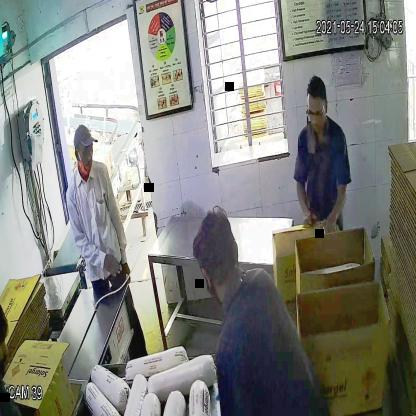goggles: (304, 103, 328, 125)
no_goggles: (74, 144, 96, 160)
